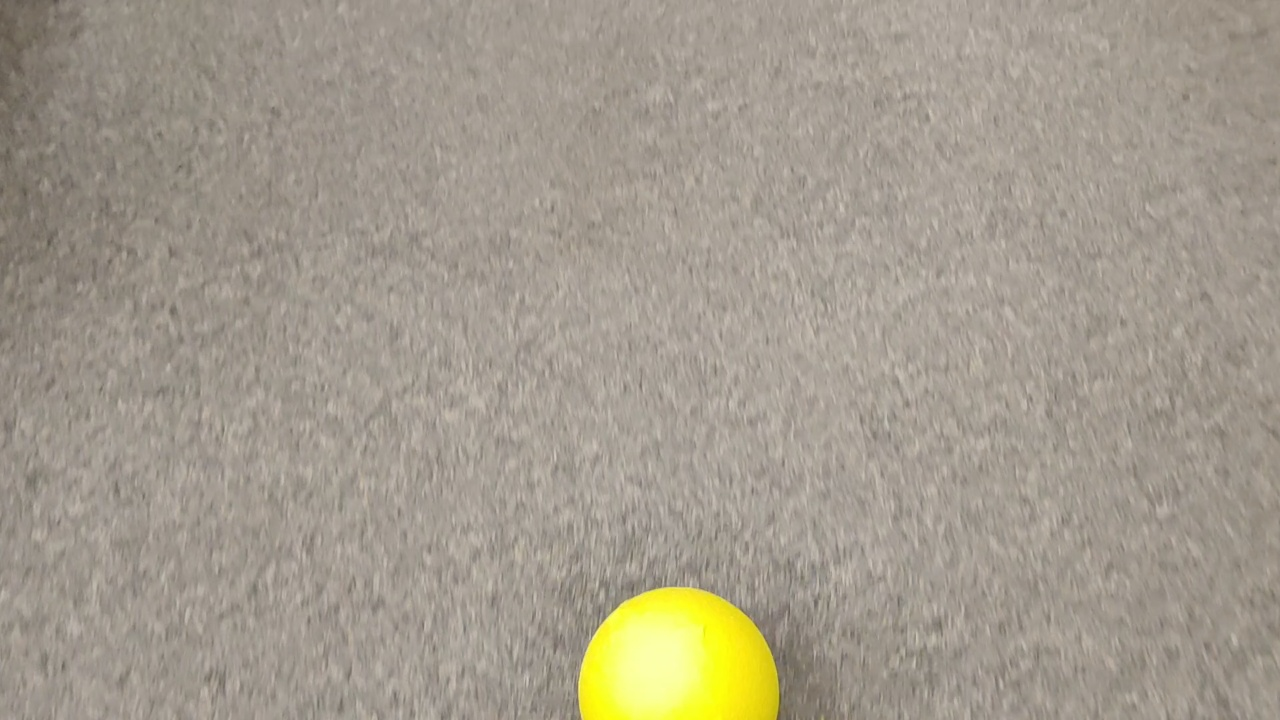Ball: (576, 586, 781, 720)
